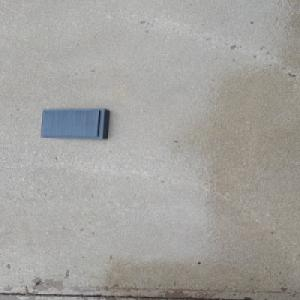PlasticPart: (39, 107, 110, 140)
